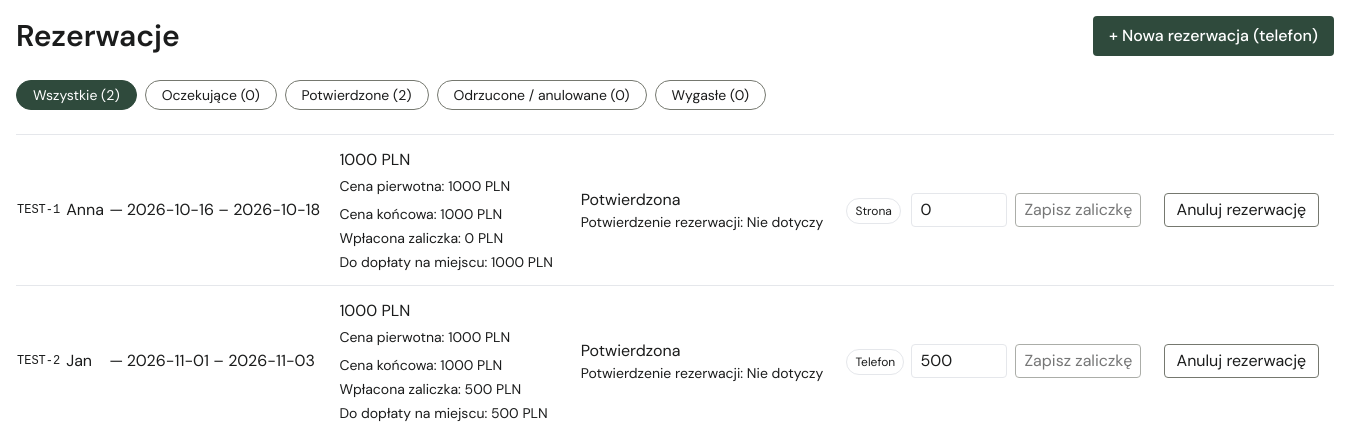
Scenario: admin deposit feedback › retains the draft and allows retry after a rejected save
This screenshot has width=1351, height=439.
Check: the text "Anna" is shown, box [65,134,108,286]
Replace the text in the field named "Zaliczka Anna" with "200": [960, 210] box [912,193,1008,227]
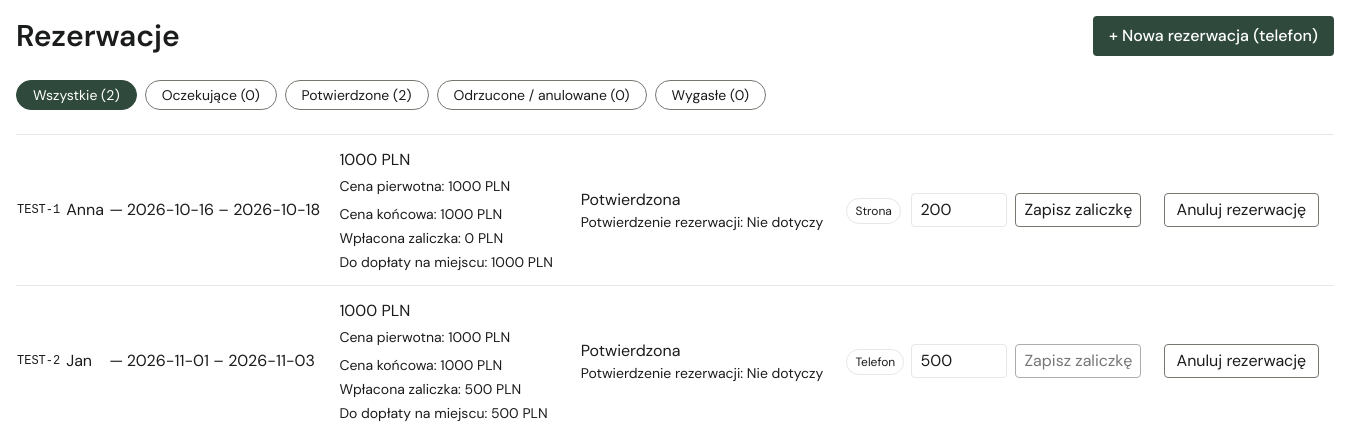
Click the button "Zapisz zaliczkę" in the row of "TEST-1": [1078, 210] box [1016,193,1141,227]
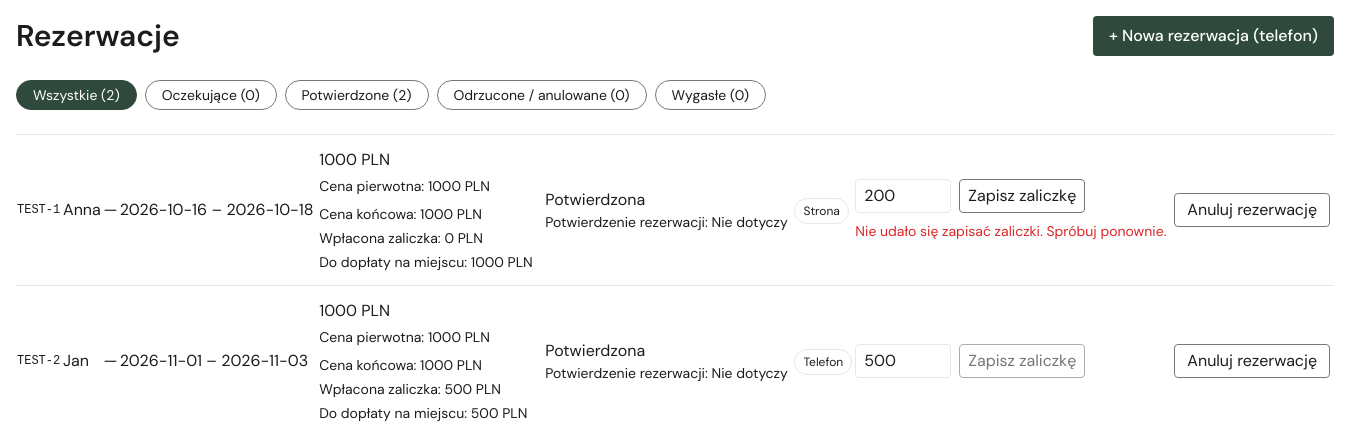
Check: the message shows "Nie udało się zapisać zaliczki", box [855,222,1166,240]
Click the button "Zapisz zaliczkę" in the row of "TEST-1": [1022, 196] box [959,179,1085,213]
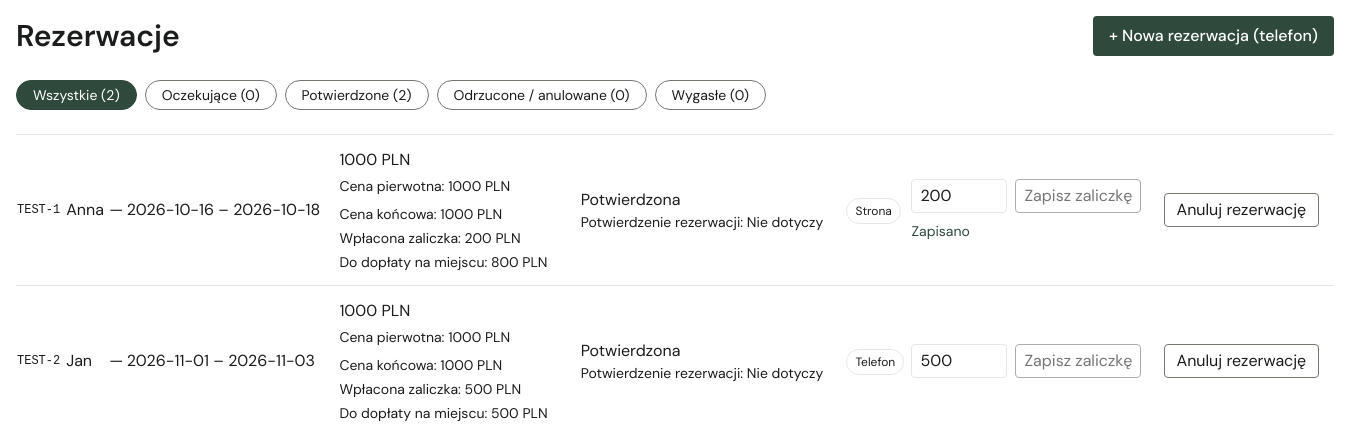
Check: the message reads "Zapisano", box [912,222,970,240]
